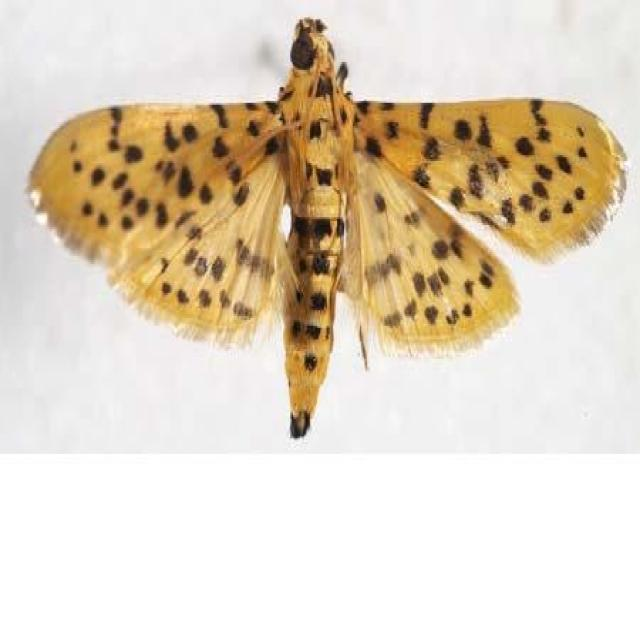peach borer: (22, 14, 631, 442)
